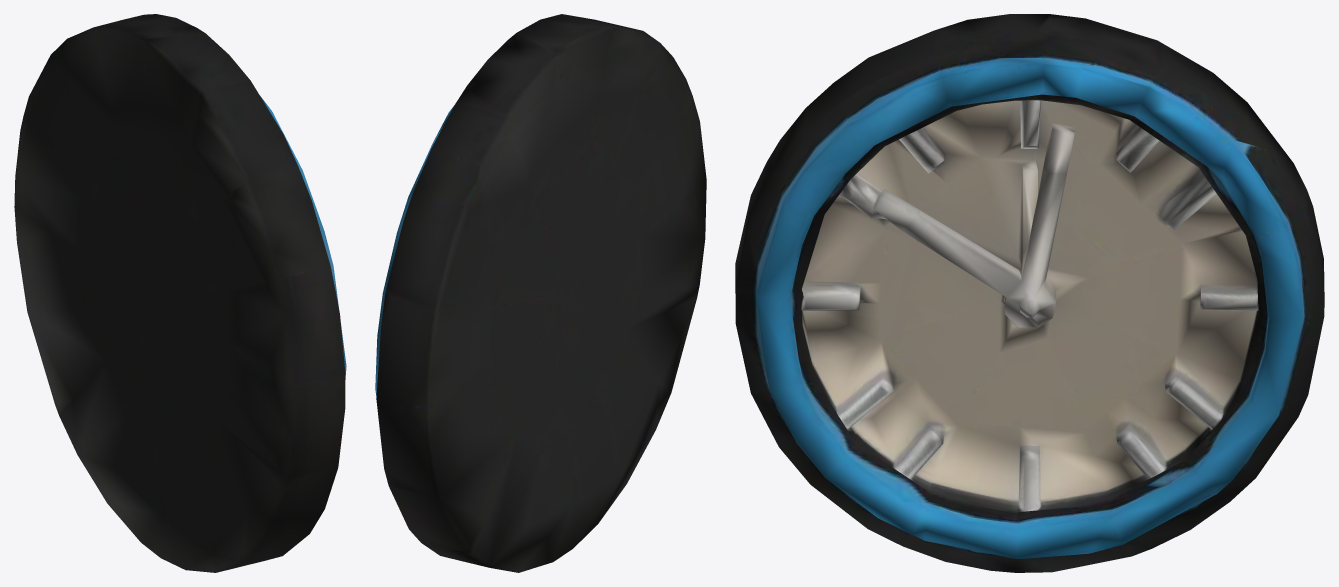
Rendered from gym-clock.glb.
3 views of the same model, side by side, from view 1: azimuth 30°, elevation 25°; view 2: azimuth 150°, elevation 25°; view 3: azimuth 270°, elevation 25° (orthographic). The views are drawn at different scales.
Visible parts, largest first — view 1: tripo_node_0463ae04-035e-4033-8f36-0c27be92143b; view 2: tripo_node_0463ae04-035e-4033-8f36-0c27be92143b; view 3: tripo_node_0463ae04-035e-4033-8f36-0c27be92143b.
Boxes of the visible parts, x1,y1,x2,y2 form: tripo_node_0463ae04-035e-4033-8f36-0c27be92143b: (14, 14, 346, 572); tripo_node_0463ae04-035e-4033-8f36-0c27be92143b: (375, 14, 706, 572); tripo_node_0463ae04-035e-4033-8f36-0c27be92143b: (735, 14, 1324, 572).
Size of the model in its own units: 0.1284 by 0.998 by 0.9981.
Materials: 1 (1 with a texture image).
